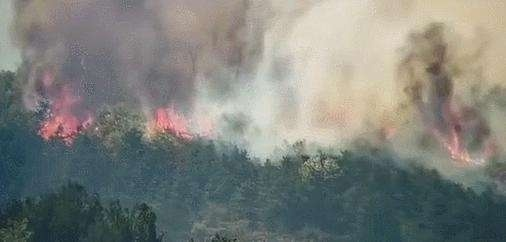fire: (36, 77, 96, 146), (435, 116, 491, 168), (147, 101, 217, 140)
